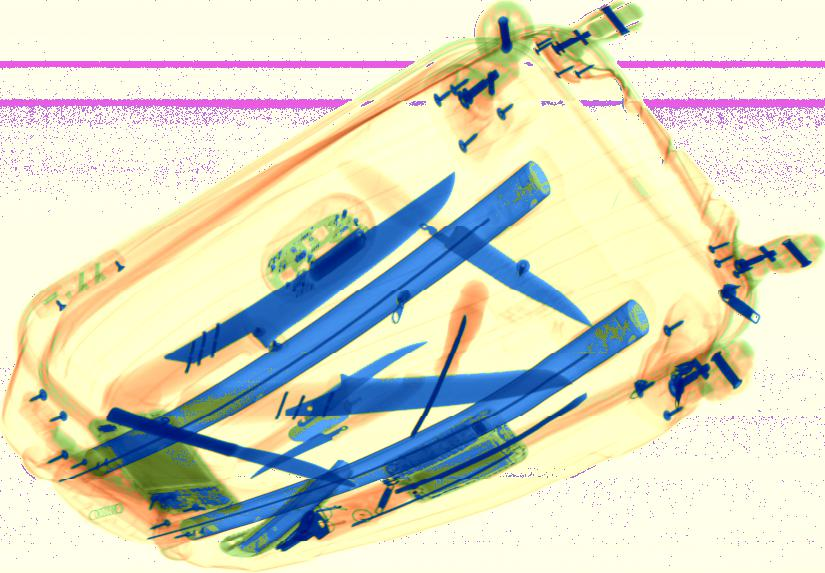Knife: (160, 168, 460, 385), (106, 407, 358, 489), (419, 217, 594, 328), (283, 337, 428, 437), (250, 415, 367, 478), (285, 396, 354, 447)
